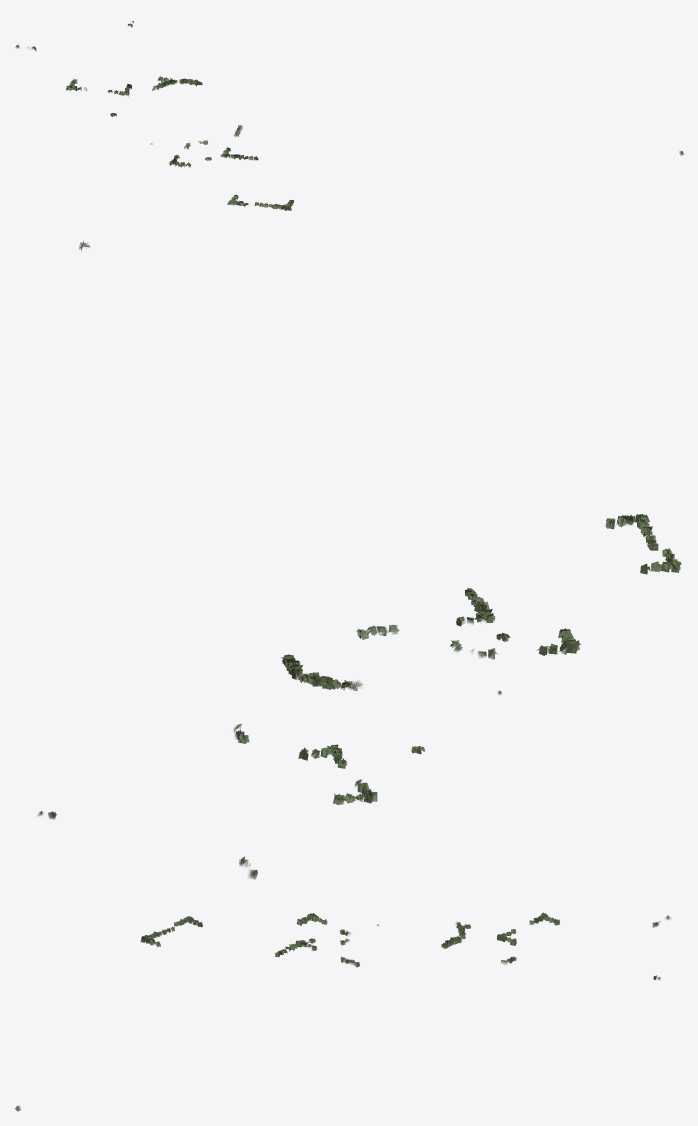
Rendered from SM_Shrubs.glb.
The picture shows the model from 3 angles, top to bottom: view 1: azimuth 30°, elevation 25°; view 2: azimuth 150°, elevation 25°; view 3: azimuth 270°, elevation 25°; orthographic projection. The views are drawn at different scales.
Parts seen in each view (by area): view 1: SM_Shrubs_VC; view 2: SM_Shrubs_VC; view 3: SM_Shrubs_VC.
Boxes of the visible parts, box(x1,y1,x2,y2) form: SM_Shrubs_VC: box(15, 21, 683, 210); SM_Shrubs_VC: box(37, 241, 681, 879); SM_Shrubs_VC: box(15, 912, 671, 1111).
Bounding box in the file's own units: 88.52 × 5.47 × 119.
